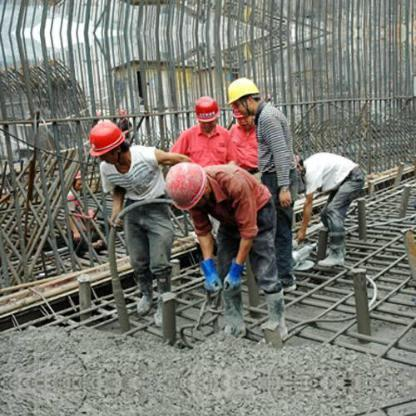helmet: (165, 161, 209, 213), (88, 121, 126, 161), (225, 77, 259, 105), (194, 93, 223, 123), (231, 103, 245, 121)
